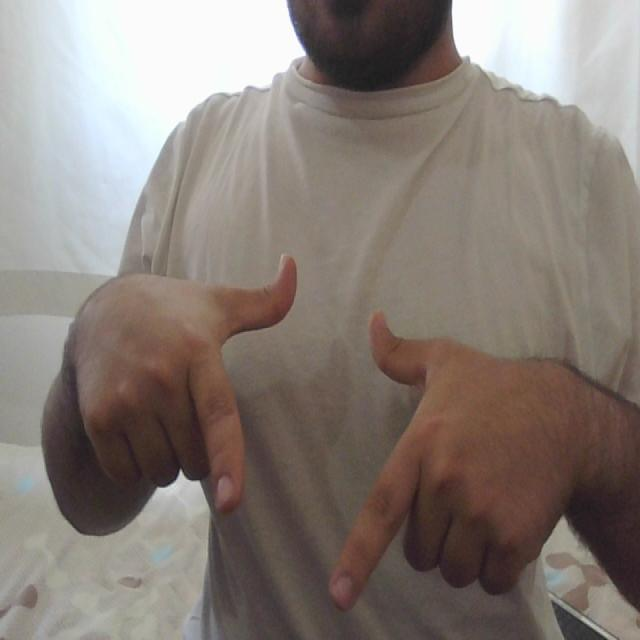Nerede: (186, 250, 478, 616)
